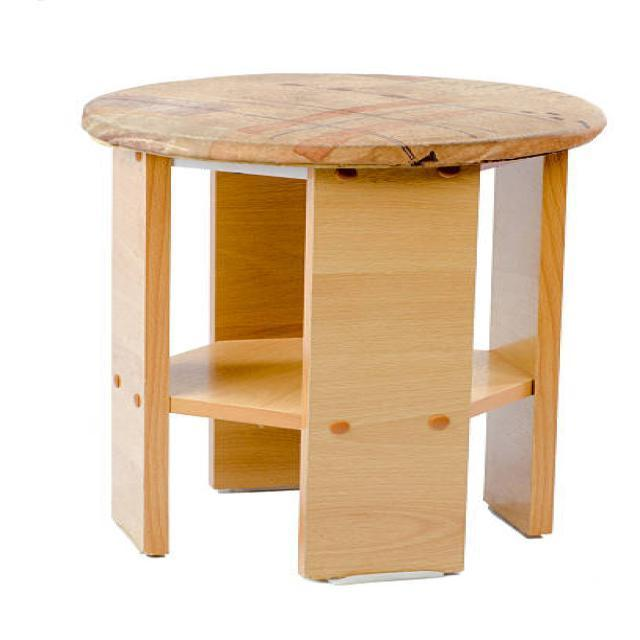table: (80, 71, 607, 583)
